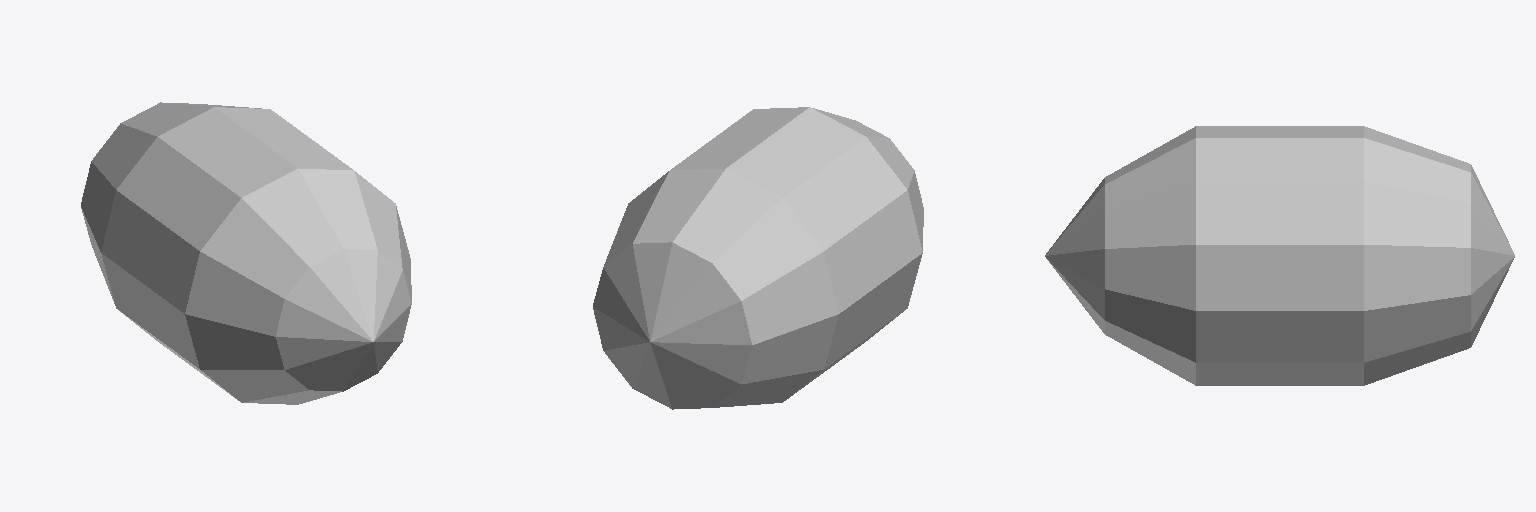
The model's file is Bullet.obj.
The picture shows the model from 3 angles: view 1: azimuth 30°, elevation 25°; view 2: azimuth 150°, elevation 25°; view 3: azimuth 270°, elevation 25°; orthographic projection.
Bounding box in the file's own units: 2 × 2 × 3.61.